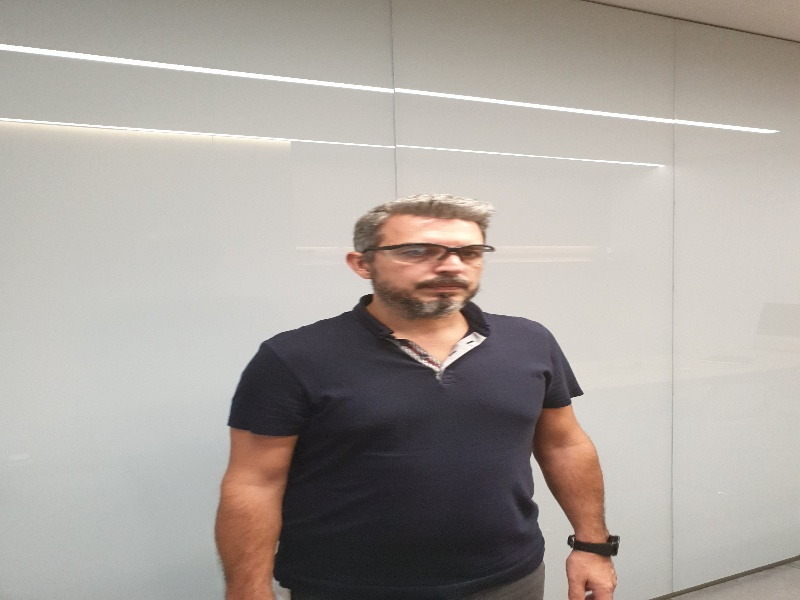Gozluk: (359, 243, 494, 261)
